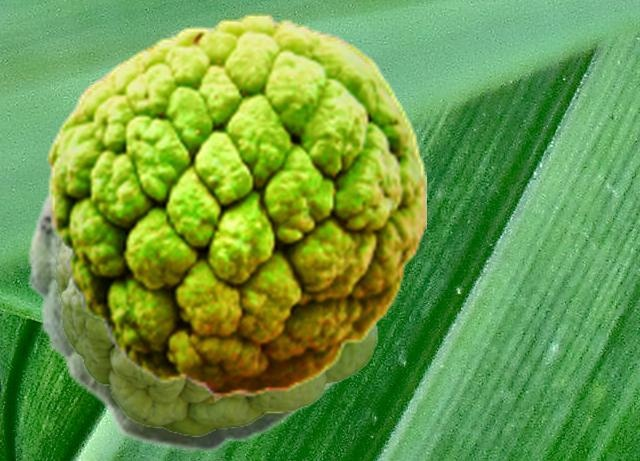atis: (46, 12, 425, 397), (26, 188, 343, 451), (55, 236, 380, 435)
